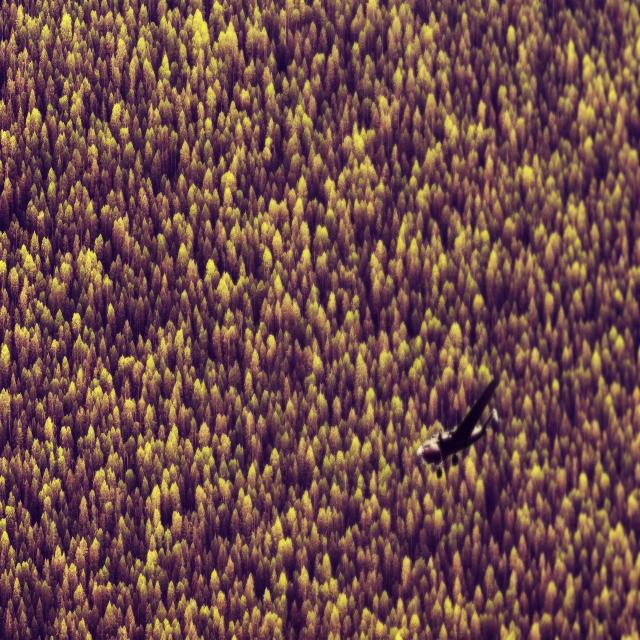airplane: (416, 377, 499, 478)
